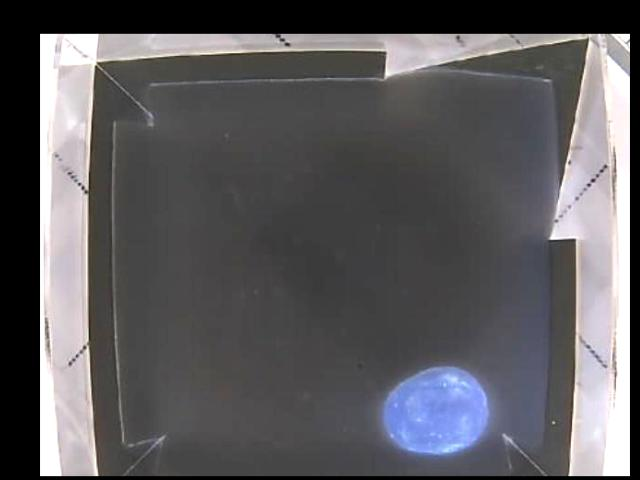Potato: (382, 364, 486, 452)
